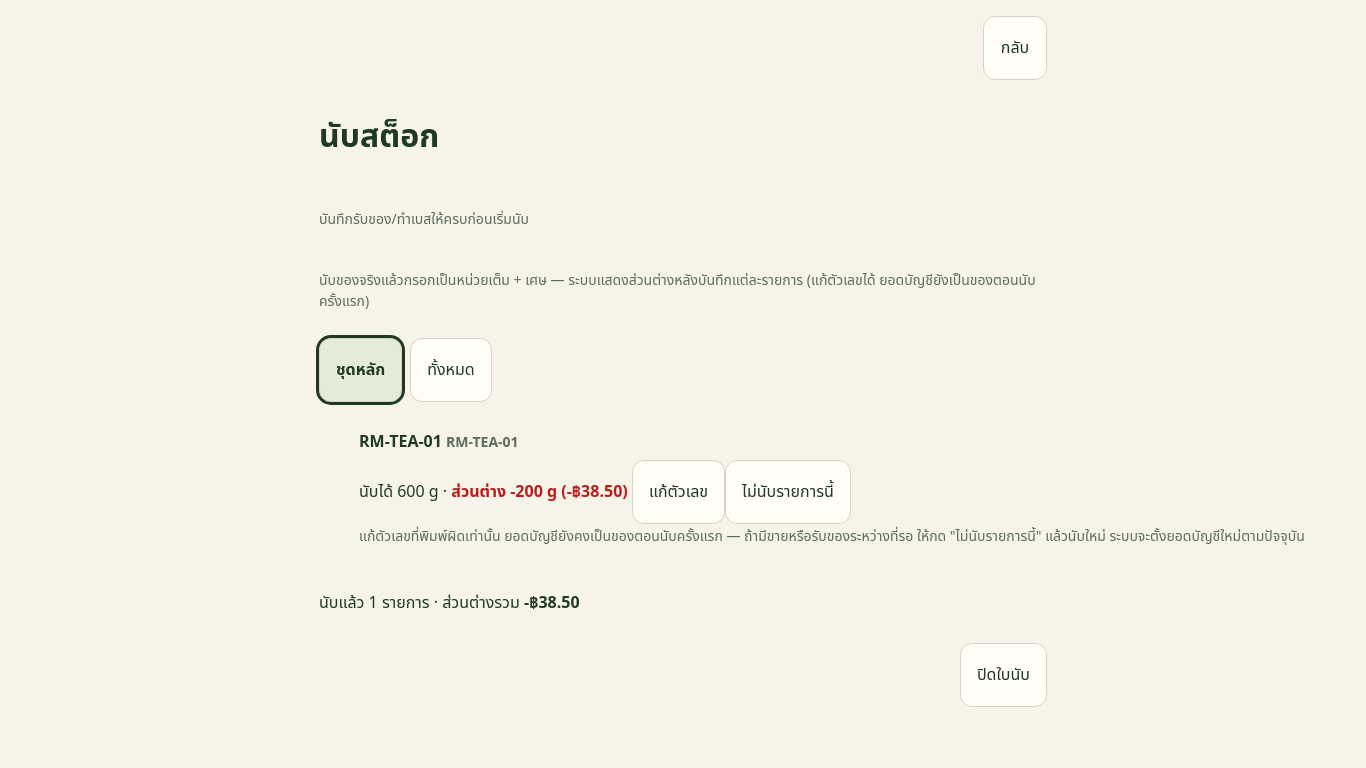
Test: CountScreen — blind count leaves no trace of the book figure anywhere in the DOM, including inputs, placeholders and data-* (review I-1) › opening "แก้ตัวเลข" pre-fills from the counted value only (1 ถุง + 200 g) — the book figure (800) never appears
Click the button with test id "count-recount-RM-TEA-01".
click(678, 492)  # box [632,460,725,524]
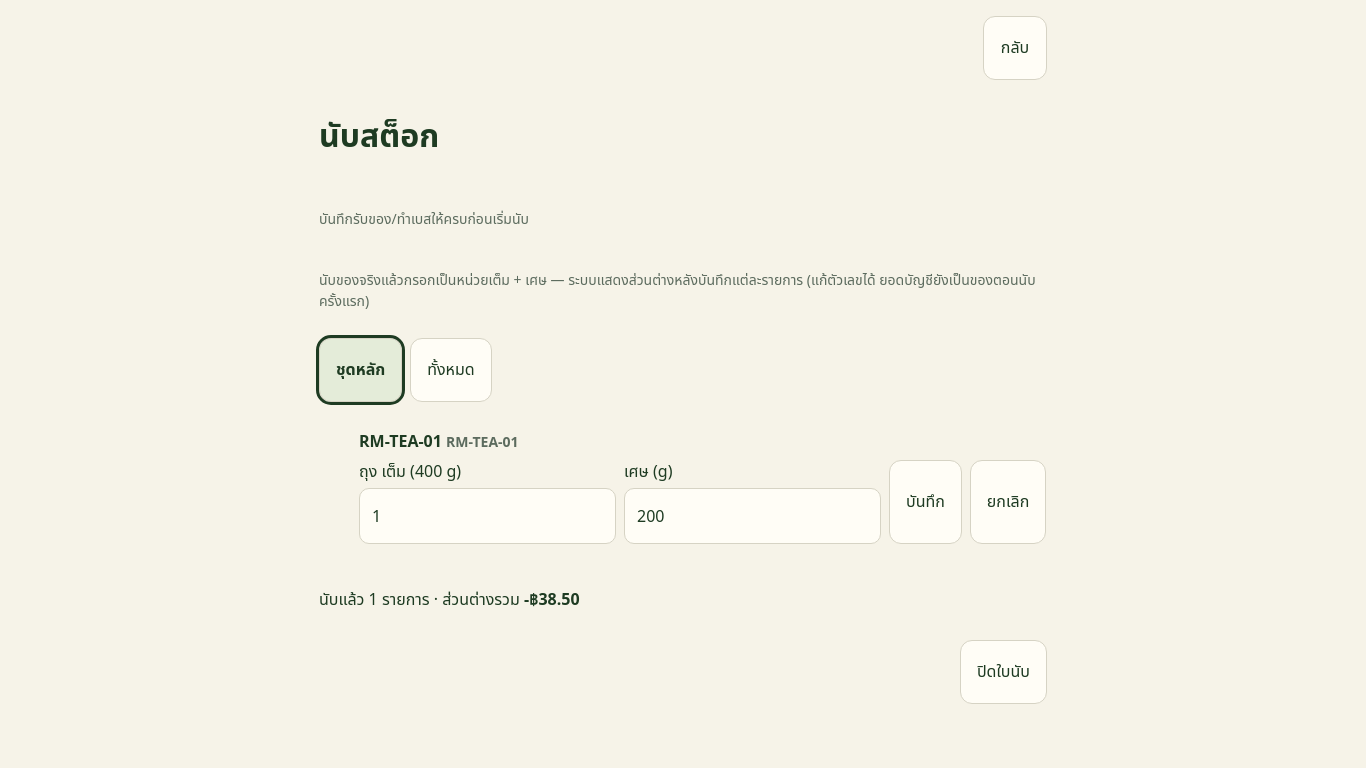
Expected: the field with test id "count-units-RM-TEA-01" holds "1", [359,488,616,544]
Expected: the field with test id "count-rest-RM-TEA-01" holds "200", [624,488,881,544]
